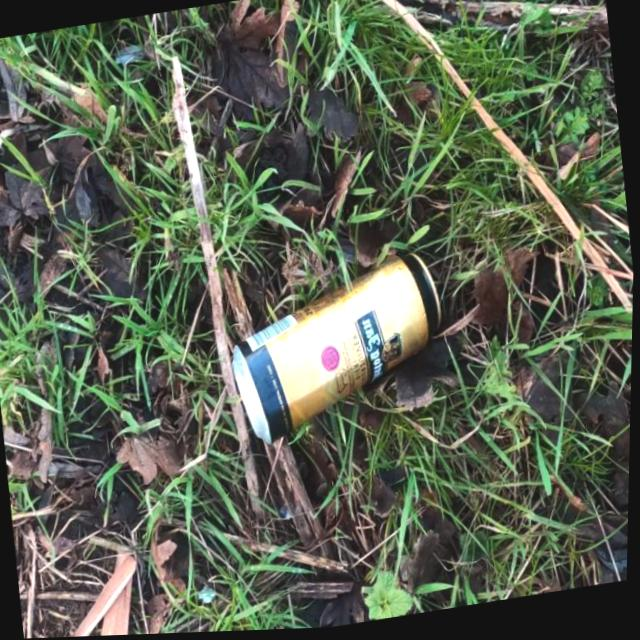Can-Metal: (215, 242, 459, 453)
